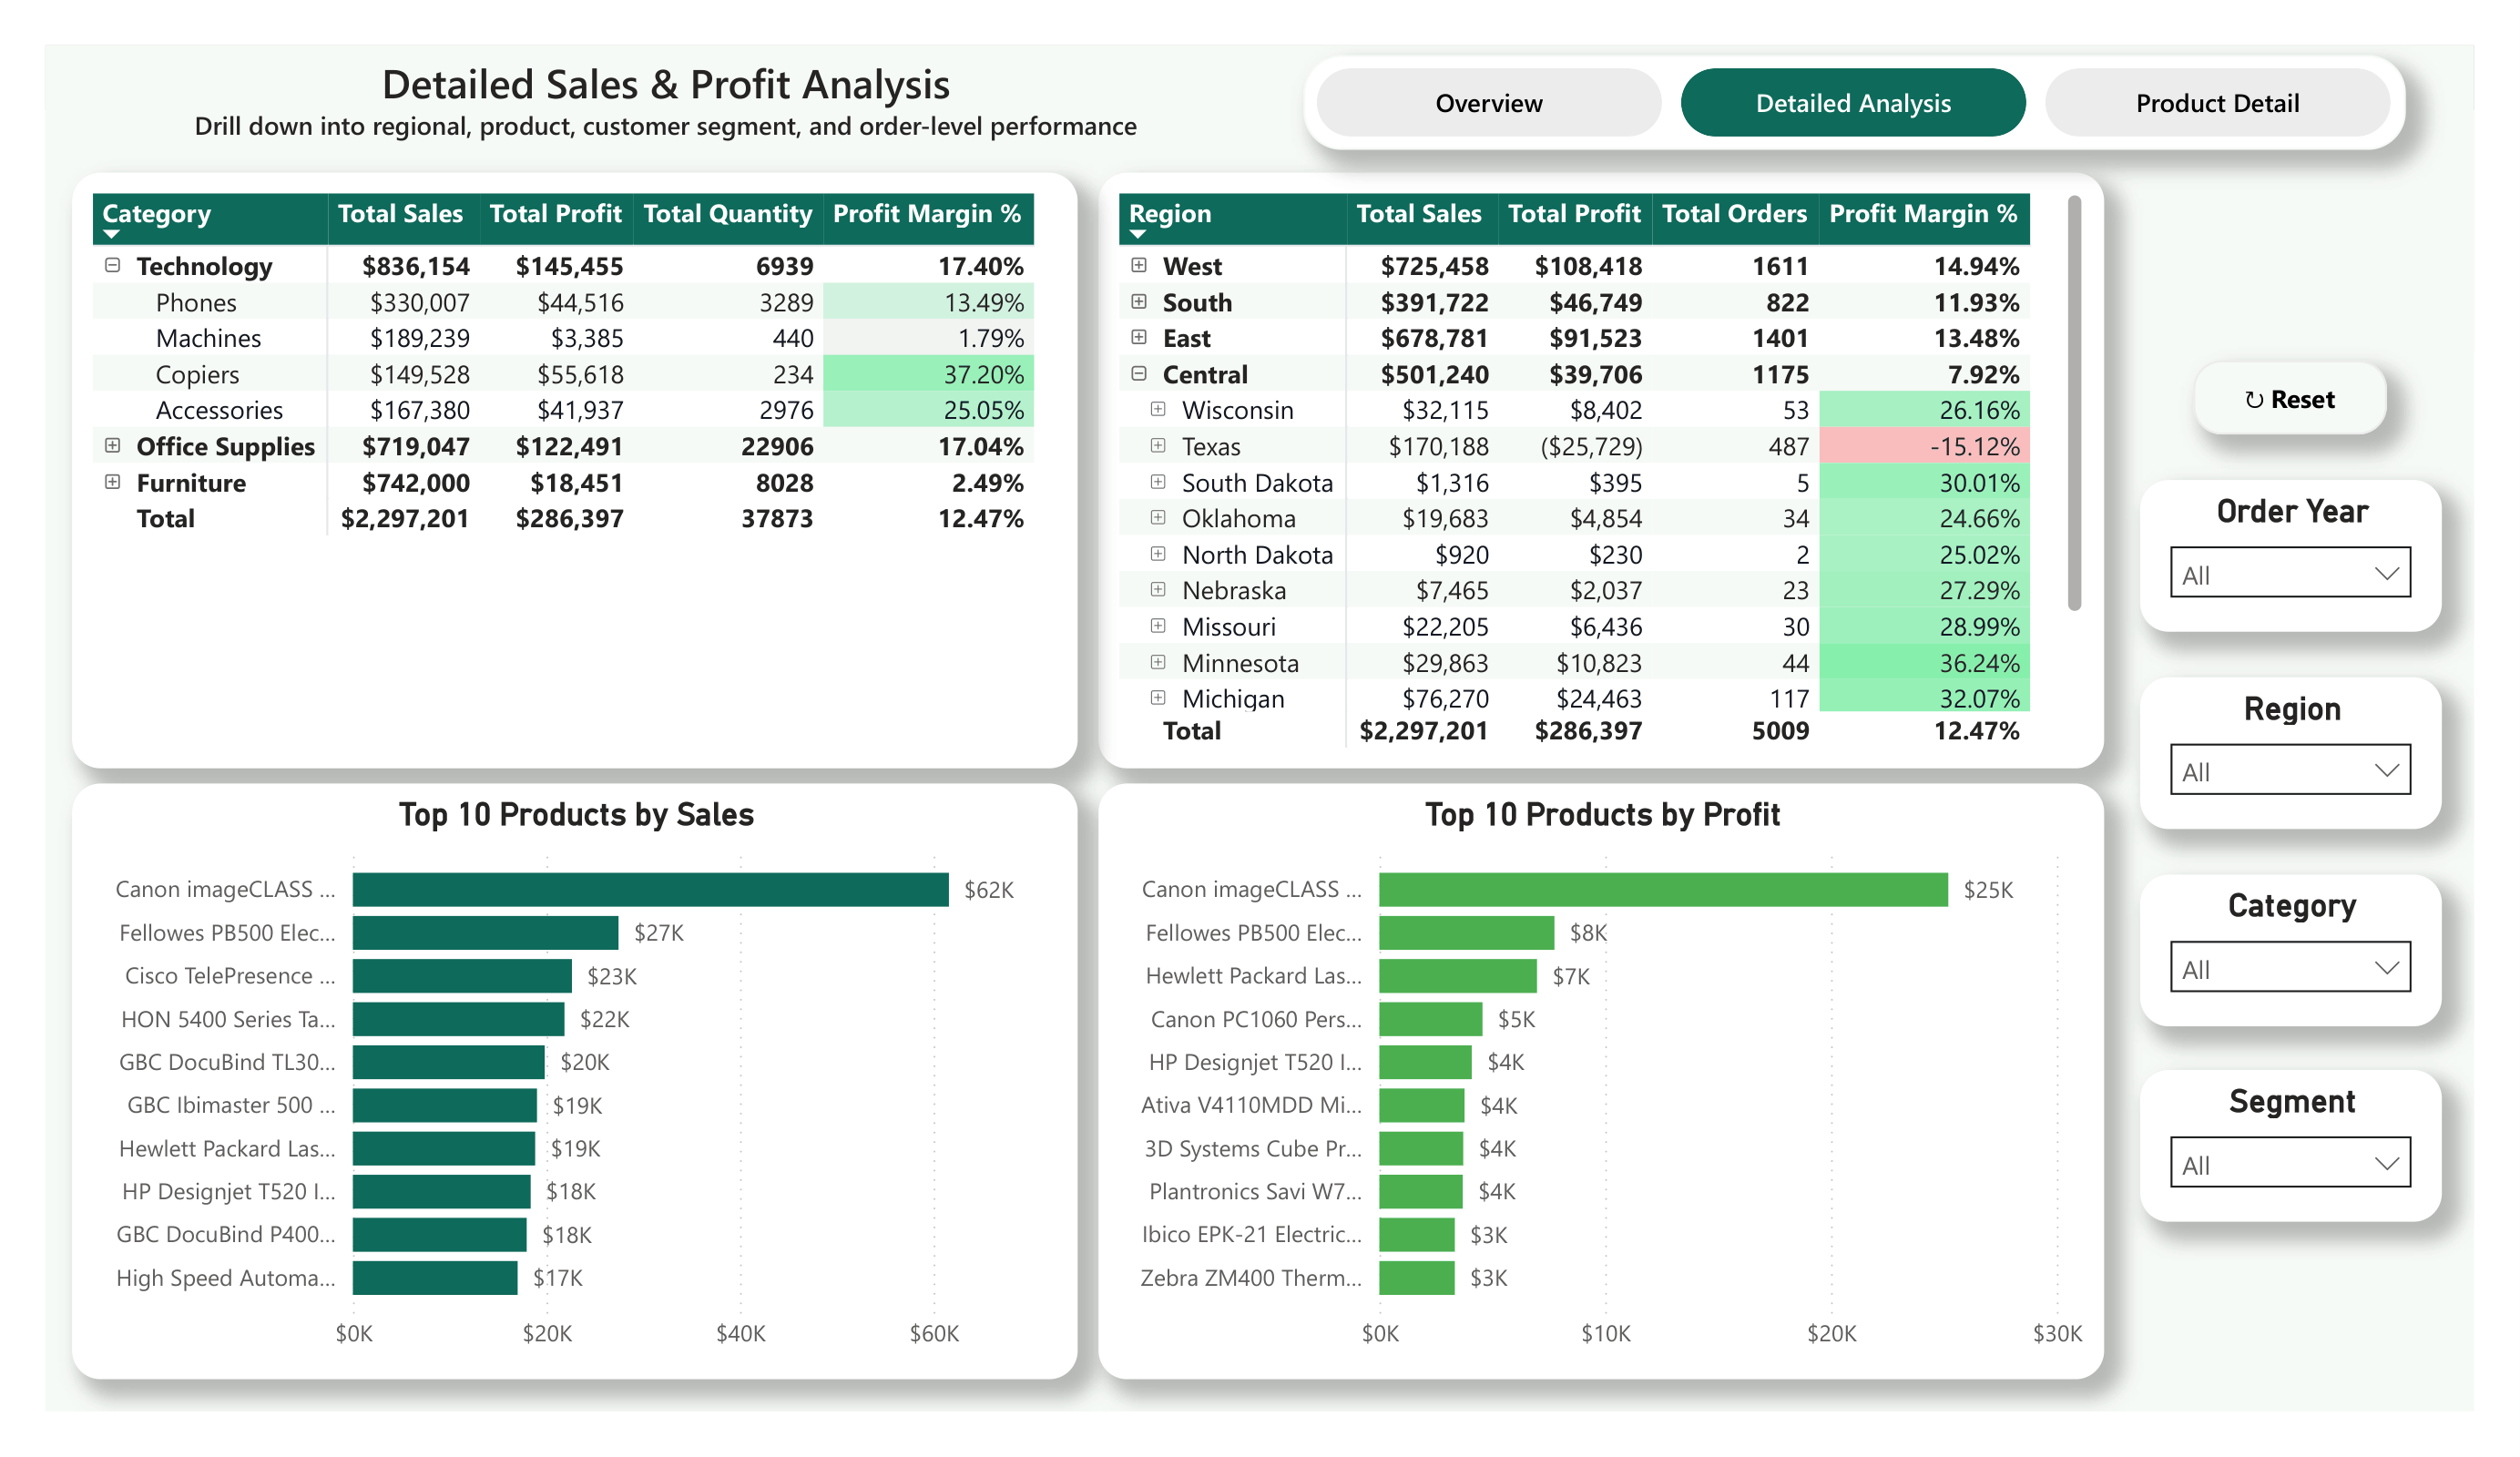

Layout of this report page (visuals, bound fields, positions):
{"tool":"powerbi","page":{"name":"Detailed Analysis","canvas":[1280,720],"ordinal":1},"visuals":[{"type":"textbox","box":[14,0,626.5,55],"z":0},{"type":"pivotTable","fields":{"Rows":["Sales_Data.Region","Sales_Data.State","Sales_Data.City"],"Values":["Sales_Data.Total Sales","Sales_Data.Total Profit","Sales_Data.Total Orders","Sales_Data.Profit Margin %"]},"box":[555.4,67.1,530.1,314.2],"z":1000},{"type":"pivotTable","fields":{"Rows":["Sales_Data.Category","Sales_Data.Sub-Category"],"Values":["Sales_Data.Total Sales","Sales_Data.Total Profit","Sales_Data.Total Quantity","Sales_Data.Profit Margin %"]},"box":[13.6,67.1,530.1,314.2],"z":2000},{"type":"clusteredBarChart","title":"Top 10 Products by Sales","fields":{"Category":["Sales_Data.Product Name"],"Y":["Sales_Data.Total Sales"]},"box":[13.6,389.1,530.1,314.2],"z":3000},{"type":"clusteredBarChart","title":"Top 10 Products by Profit","fields":{"Category":["Sales_Data.Product Name"],"Y":["Sales_Data.Total Profit"]},"box":[555.4,389.1,530.1,314.2],"z":4000},{"type":"slicer","title":"Order Year","fields":{"Values":["Sales_Data.Order Year"]},"box":[1103.9,229.1,158.9,79.9],"z":5000},{"type":"slicer","title":"Region ","fields":{"Values":["Sales_Data.Region"]},"box":[1103.9,332.9,158.9,79.9],"z":6000},{"type":"slicer","title":"Category ","fields":{"Values":["Sales_Data.Category"]},"box":[1103.9,436.7,158.9,79.9],"z":7000},{"type":"slicer","title":"Segment","fields":{"Values":["Sales_Data.Segment"]},"box":[1103.9,540.4,158.9,79.9],"z":8000},{"type":"pageNavigator","box":[663.5,5,580.5,50],"z":9000},{"type":"actionButton","box":[1132.3,165.8,101.5,39.5],"z":10000}]}

Visuals, with their boxes on the page's 1280x720 design canvas (x1, y1, x2, y2). These are canvas units, not pixel positions in the 2520x1457 screenshot, which may show the page scaled, cropped or inside an application window:
textbox: [14, 0, 640, 55]
pivotTable - Sales_Data.Region x Sales_Data.State: [555, 67, 1086, 381]
pivotTable - Sales_Data.Category x Sales_Data.Sub-Category: [14, 67, 544, 381]
"Top 10 Products by Sales" clusteredBarChart: [14, 389, 544, 703]
"Top 10 Products by Profit" clusteredBarChart: [555, 389, 1086, 703]
"Order Year" slicer: [1104, 229, 1263, 309]
"Region " slicer: [1104, 333, 1263, 413]
"Category " slicer: [1104, 437, 1263, 517]
"Segment" slicer: [1104, 540, 1263, 620]
pageNavigator: [664, 5, 1244, 55]
actionButton: [1132, 166, 1234, 205]
